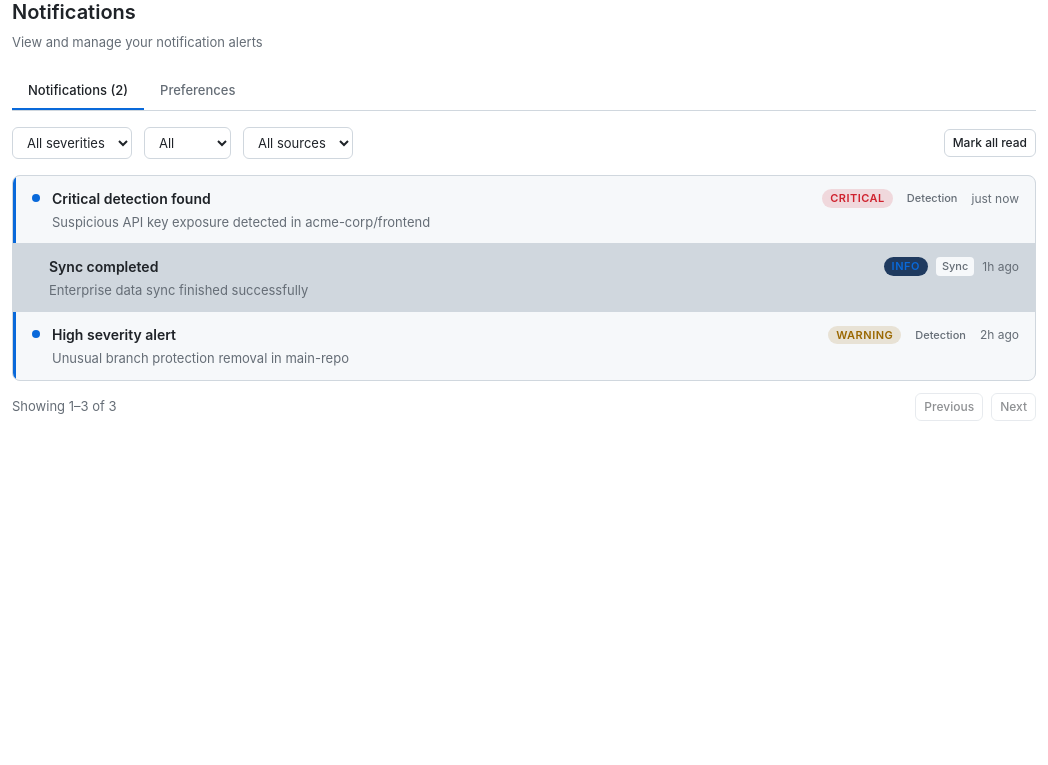
Scenario: NotificationsPage › enables save button when toggle is clicked
The image size is (1048, 765).
Expected: the text "Critical detection found" is shown, top-left (52, 188), bottom-right (211, 209)
Click the button "Preferences" at (198, 91), box top-left (144, 72), bottom-right (252, 110)
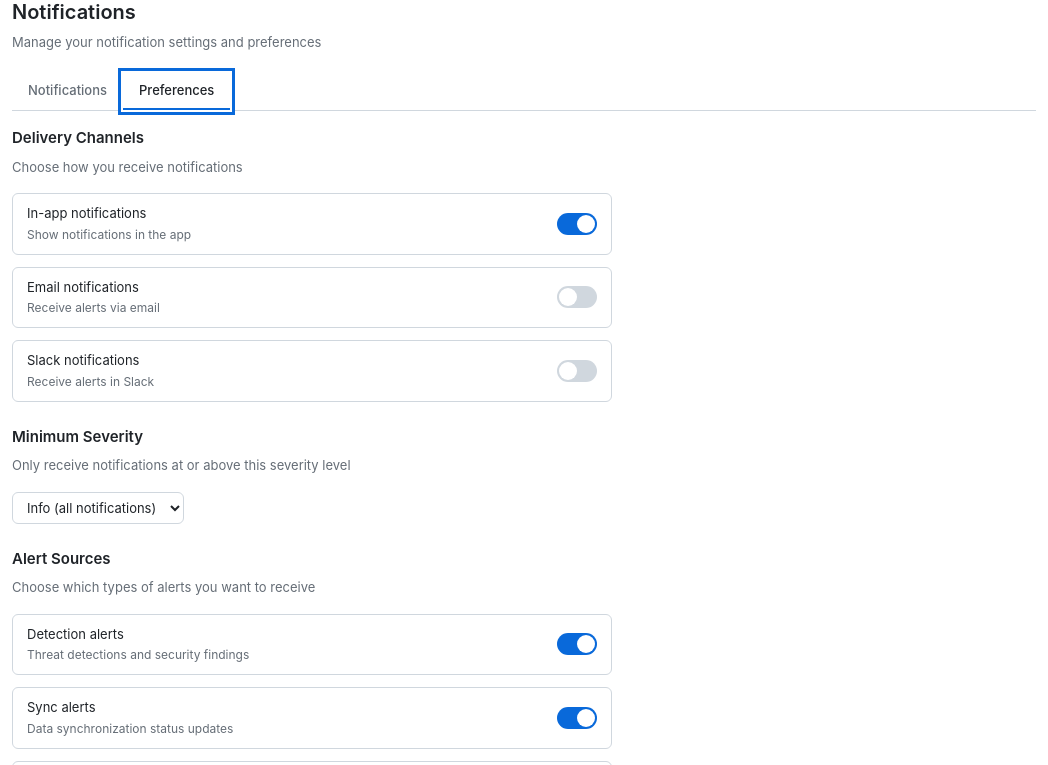
Now the switch named "Email notifications" is shown
Click the switch named "Email notifications" at (577, 297), box top-left (557, 286), bottom-right (597, 308)
(page scrolled)
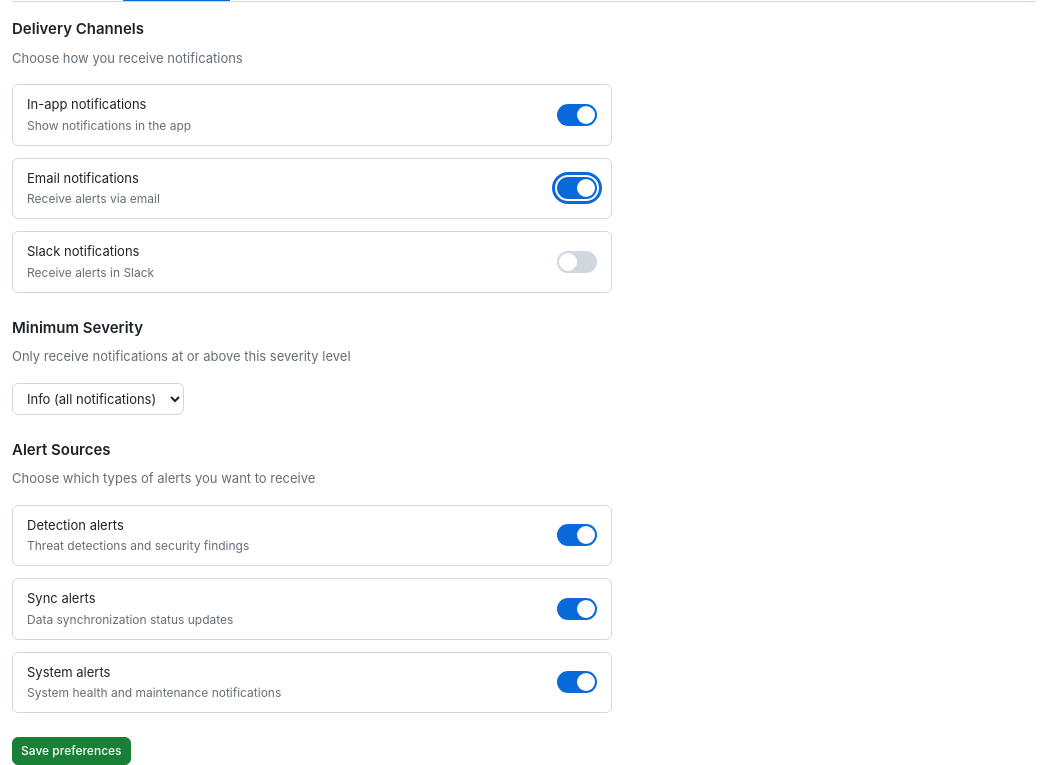
Now the button "Save preferences" is enabled, box top-left (12, 737), bottom-right (131, 764)
